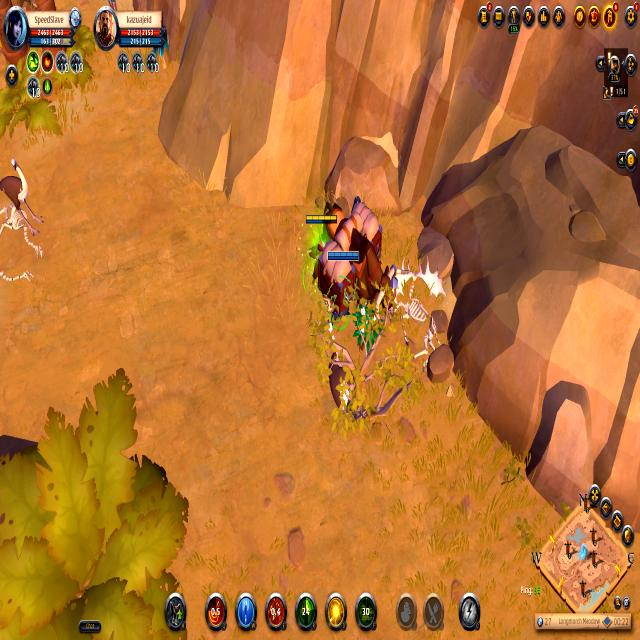hide: (351, 299, 390, 357)
mob: (323, 344, 361, 428)
ore: (0, 153, 49, 244)
red: (302, 210, 338, 302), (323, 249, 362, 323)
